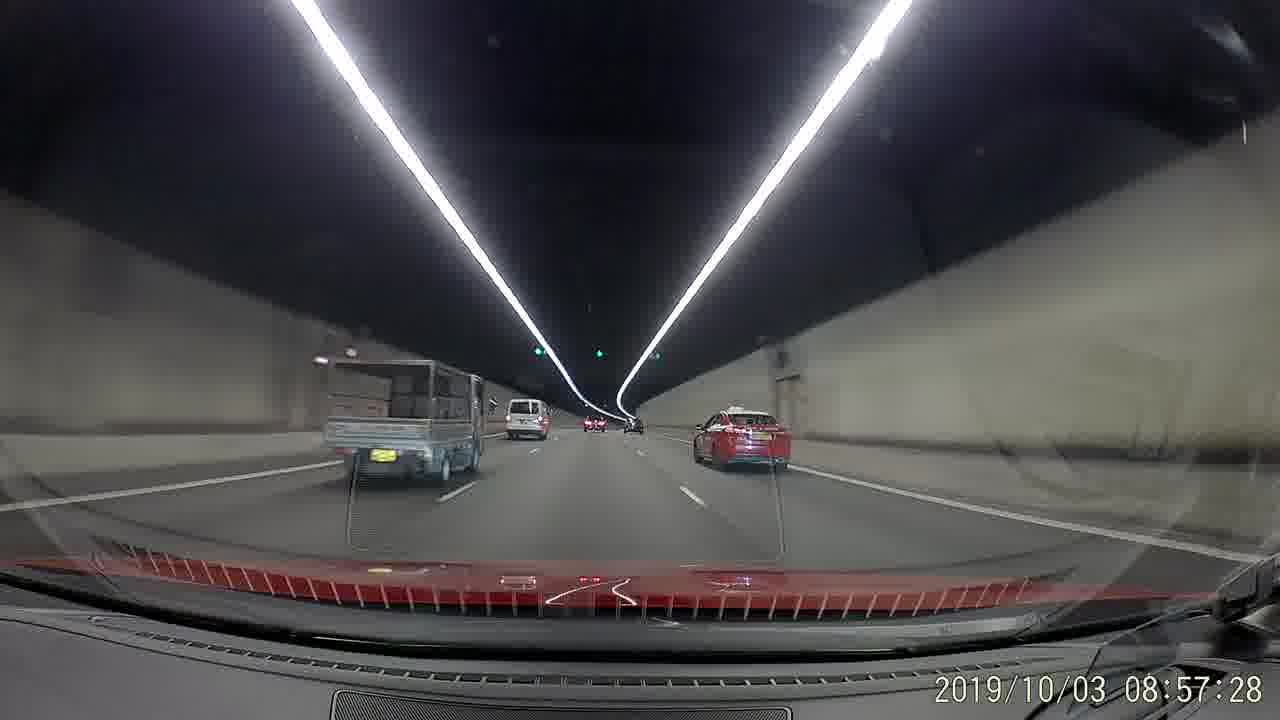car: (690, 401, 792, 476), (584, 412, 608, 434), (624, 418, 645, 436)
